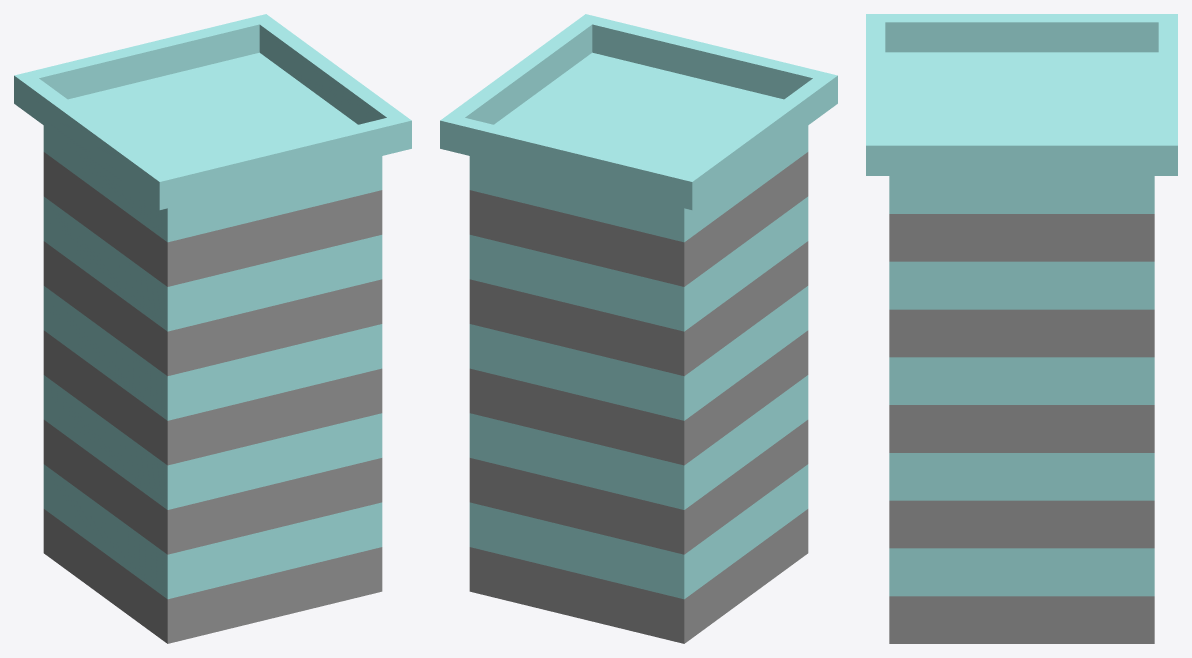
Rendered from background_building1.fbx.
The picture shows the model from 3 angles, left to right: view 1: azimuth 30°, elevation 25°; view 2: azimuth 150°, elevation 25°; view 3: azimuth 270°, elevation 25°; orthographic projection. The views are drawn at different scales.
Parts seen in each view (by area): view 1: building4; view 2: building4; view 3: building4.
Boxes of the visible parts, x1,y1,x2,y2 form: building4: (14,14,411,643); building4: (440,14,837,643); building4: (866,14,1177,643).
Size of the model in its own units: 653 by 1175 by 653.
